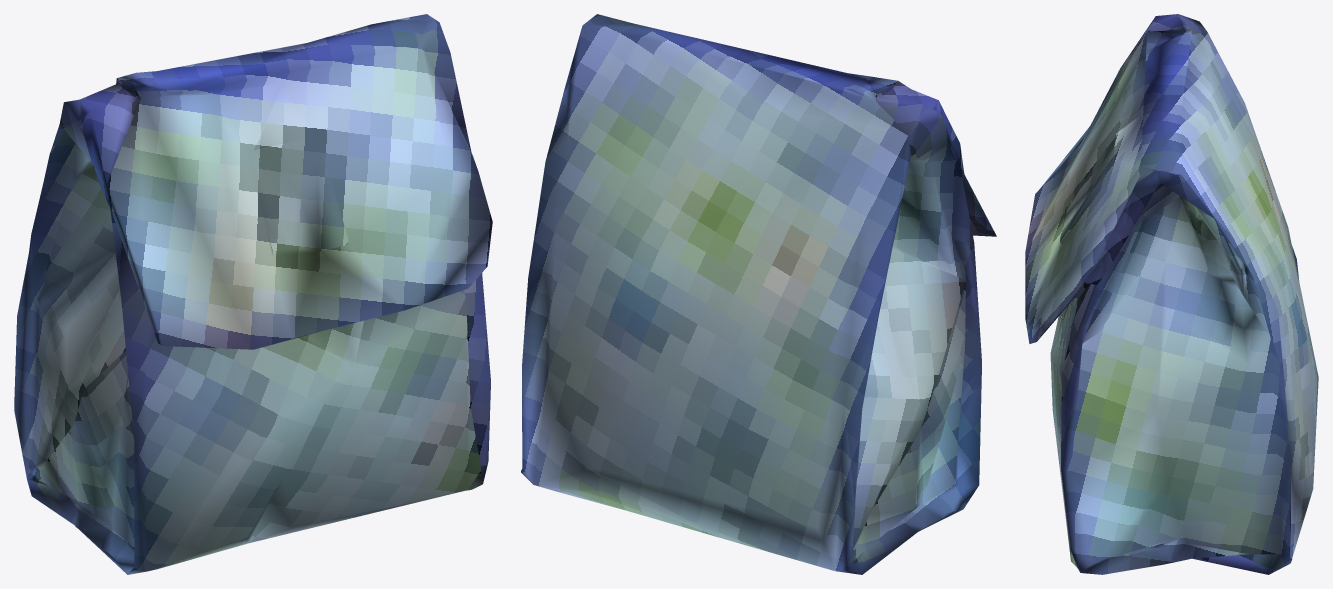
Rendered from Olive_Kids_Dinosaur_Land_Munch_n_Lunch-low.glb.
3 views of the same model, side by side, from view 1: azimuth 30°, elevation 25°; view 2: azimuth 150°, elevation 25°; view 3: azimuth 270°, elevation 25° (orthographic). The views are drawn at different scales.
Parts seen in each view (by area): view 1: Olive_Kids_Dinosaur_Land_Munch_n_Lunch; view 2: Olive_Kids_Dinosaur_Land_Munch_n_Lunch; view 3: Olive_Kids_Dinosaur_Land_Munch_n_Lunch.
Boxes of the visible parts, box(x1,y1,x2,y2) form: Olive_Kids_Dinosaur_Land_Munch_n_Lunch: box(14, 14, 492, 574); Olive_Kids_Dinosaur_Land_Munch_n_Lunch: box(521, 14, 996, 574); Olive_Kids_Dinosaur_Land_Munch_n_Lunch: box(1025, 14, 1318, 574).
Size of the model in its own units: 0.2216 by 0.2606 by 0.1654.
Materials: 1 (1 with a texture image).
